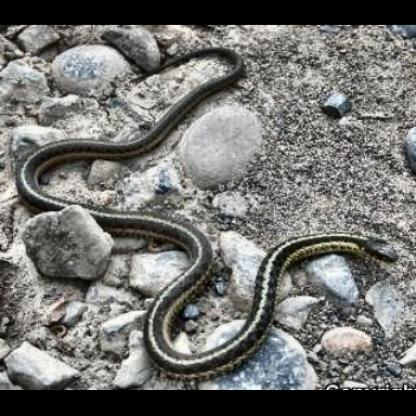Snake: (18, 43, 400, 379)
